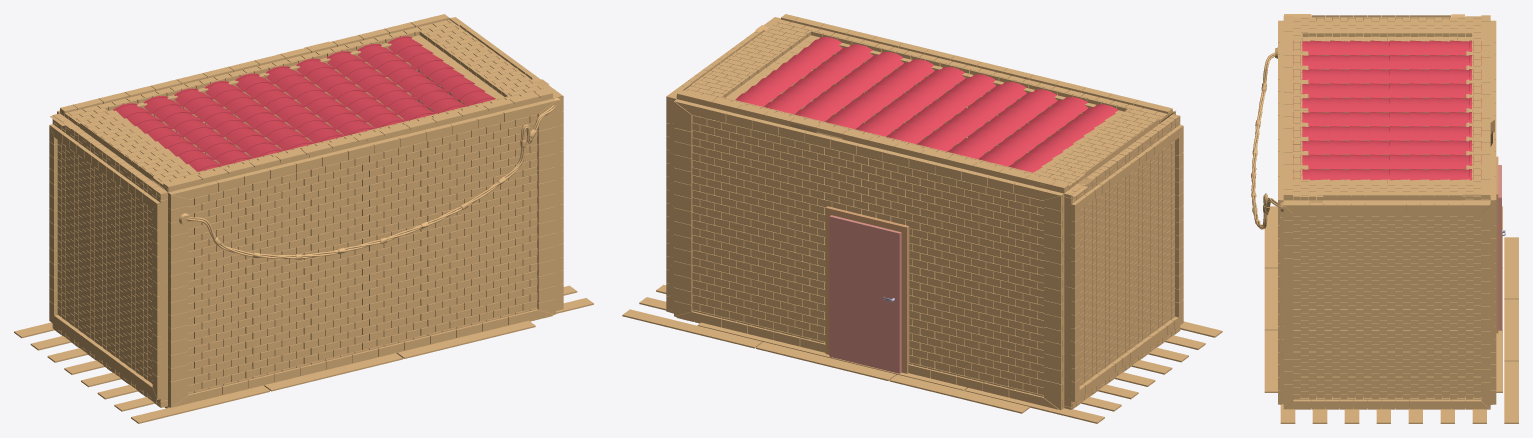
The model's file is builder_house.fbx.
The picture shows the model from 3 angles, left to right: view 1: azimuth 30°, elevation 25°; view 2: azimuth 150°, elevation 25°; view 3: azimuth 270°, elevation 25°; orthographic projection. The views are drawn at different scales.
Visible parts, largest first — view 1: BuilderHouse_LOD0; view 2: BuilderHouse_LOD0; view 3: BuilderHouse_LOD0.
Boxes of the visible parts, x1,y1,x2,y2 form: BuilderHouse_LOD0: (14, 14, 593, 423); BuilderHouse_LOD0: (622, 14, 1222, 423); BuilderHouse_LOD0: (1251, 14, 1518, 423).
Size of what is drawn, in the model's own units: 705 by 328 by 369.
